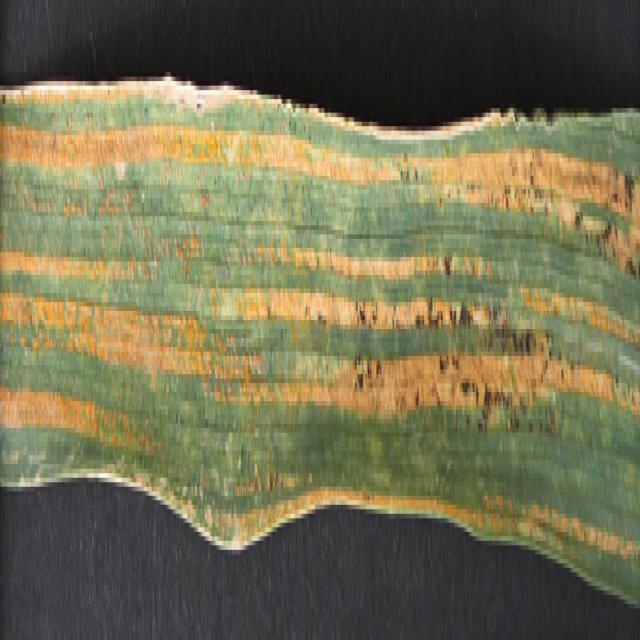leaf rust: (2, 112, 640, 473)
